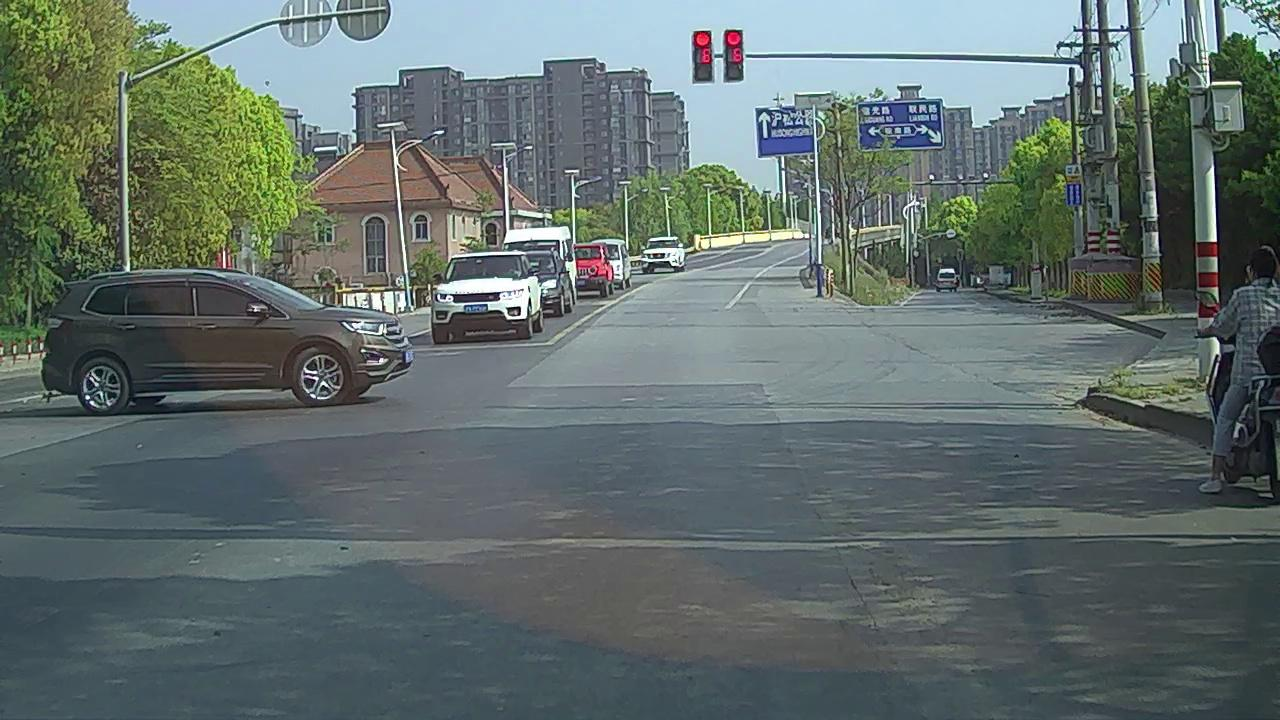traffic_light: (693, 30, 713, 83), (726, 29, 744, 81)
